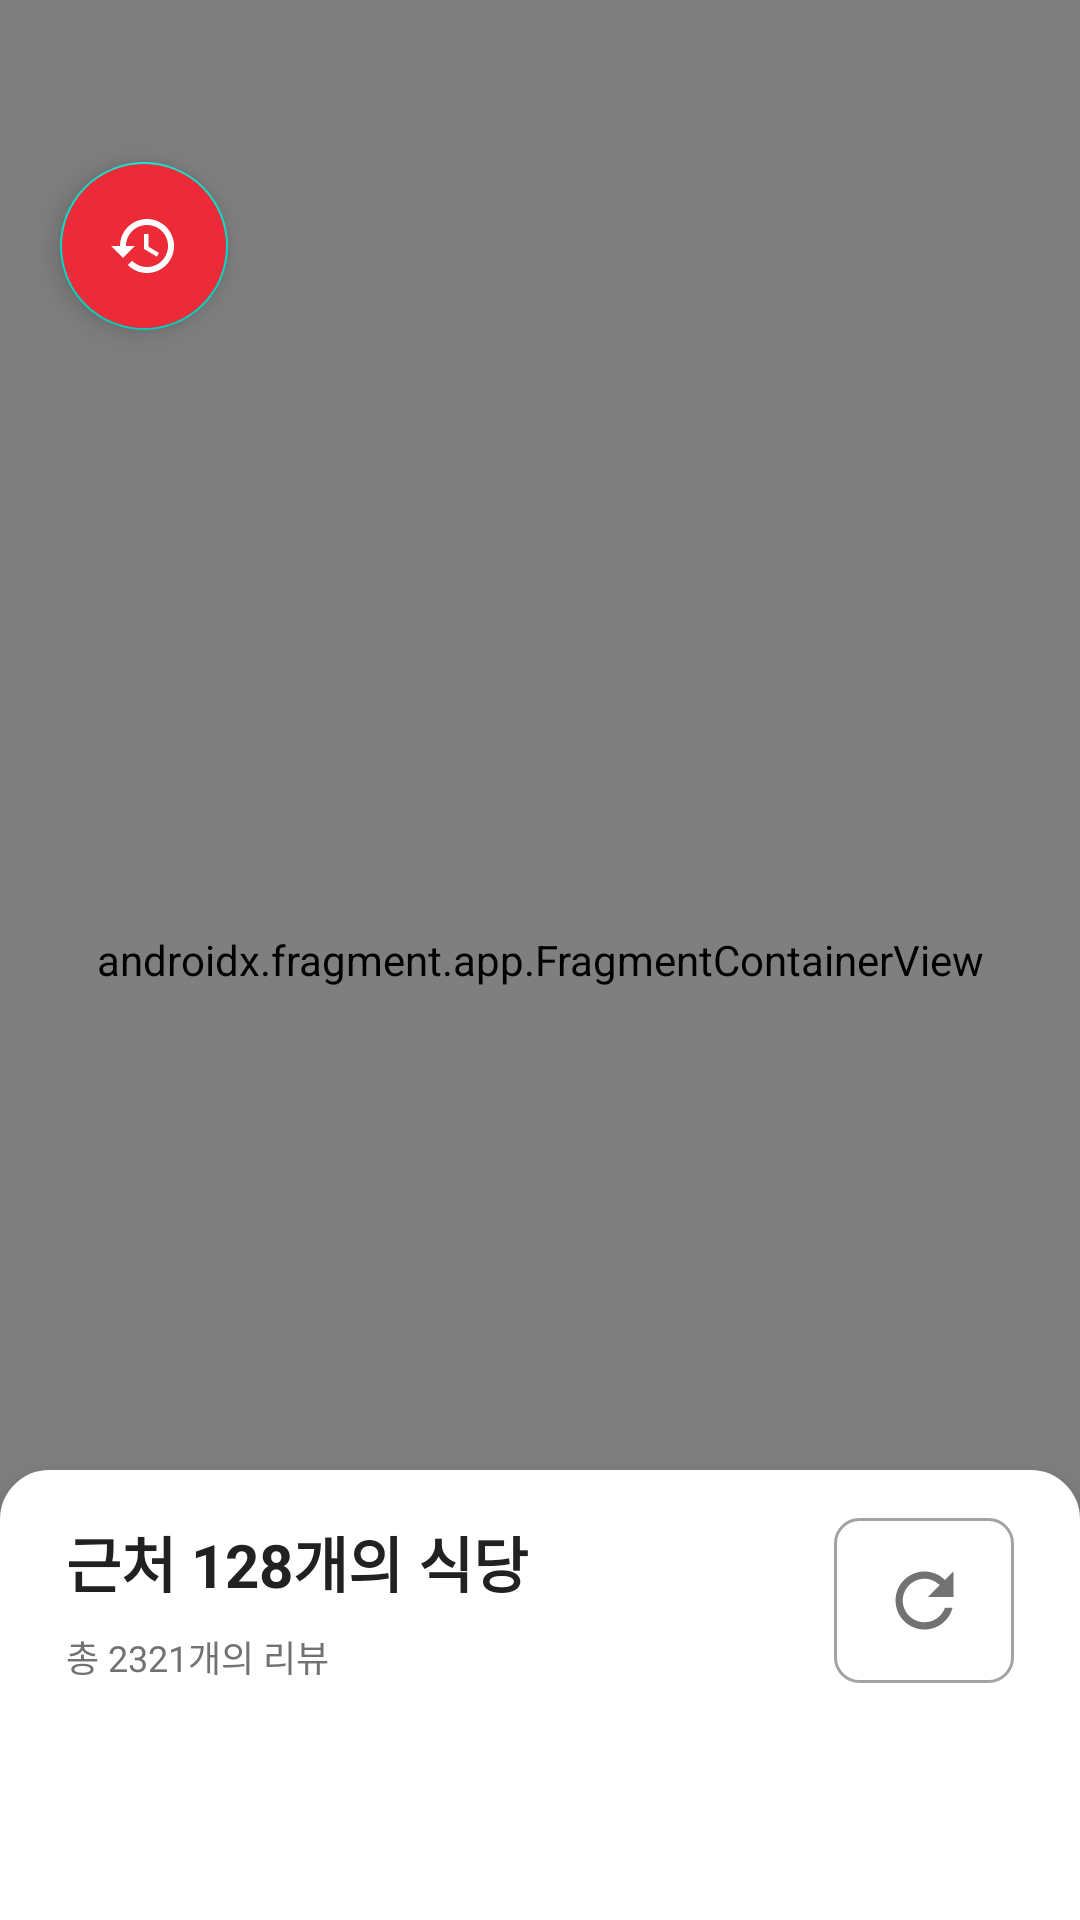

Icon bounding boxes for this 1080*1920 phone screenshot, format [x1,y1,x2,y2]:
history: [60,162,228,330]
refresh: [834,1518,1014,1683]
